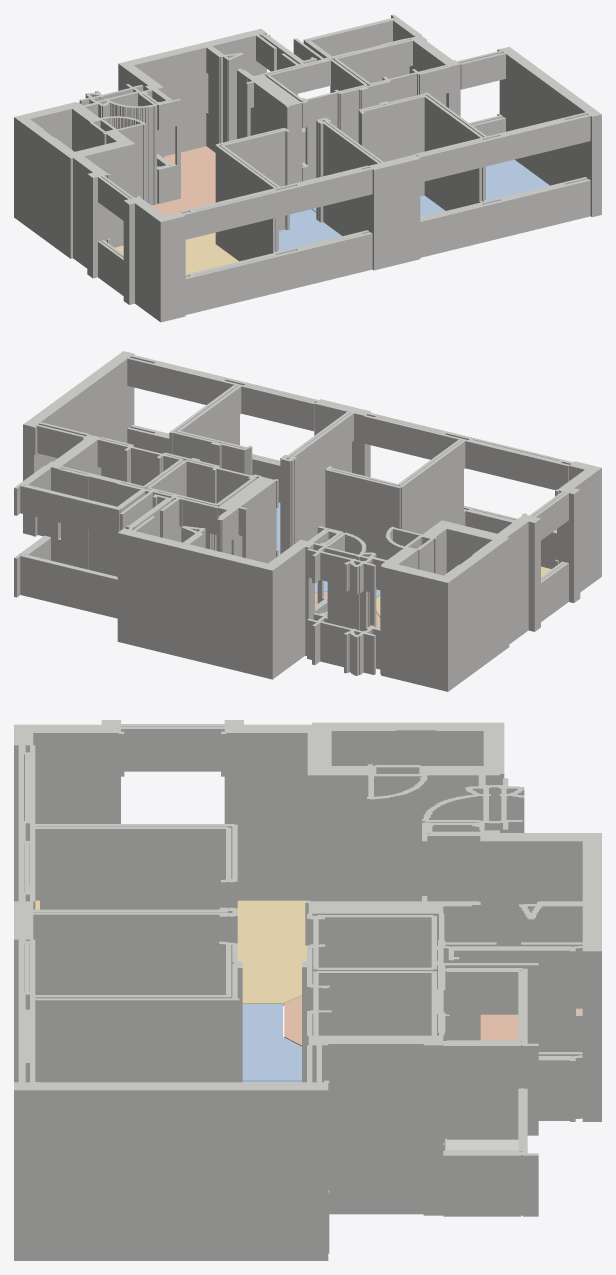
3 views of the same model, one above another, from view 1: azimuth 30°, elevation 25°; view 2: azimuth 150°, elevation 25°; view 3: azimuth 270°, elevation 25° (orthographic). The views are drawn at different scales.
Parts seen in each view (by area): view 1: walls, room:kitchen:0, room:bedroom:9, room:bedroom:5, room:living:4; view 2: walls; view 3: walls, room:living:4, room:bedroom:5, room:kitchen:0, room:ledge:7.
Boxes of the visible parts, bbox=[...] form: walls: bbox=[14, 14, 601, 322]; room:kitchen:0: bbox=[151, 146, 215, 215]; room:bedroom:9: bbox=[486, 159, 549, 200]; room:bedroom:5: bbox=[279, 209, 342, 251]; room:living:4: bbox=[115, 232, 238, 274]; walls: bbox=[14, 351, 601, 691]; walls: bbox=[14, 720, 601, 1260]; room:living:4: bbox=[35, 900, 306, 1005]; room:bedroom:5: bbox=[242, 1004, 301, 1081]; room:kitchen:0: bbox=[284, 996, 582, 1046]; room:ledge:7: bbox=[445, 1138, 518, 1150].
Size of the model in its own units: 13.04 by 2.8 by 8.75.
